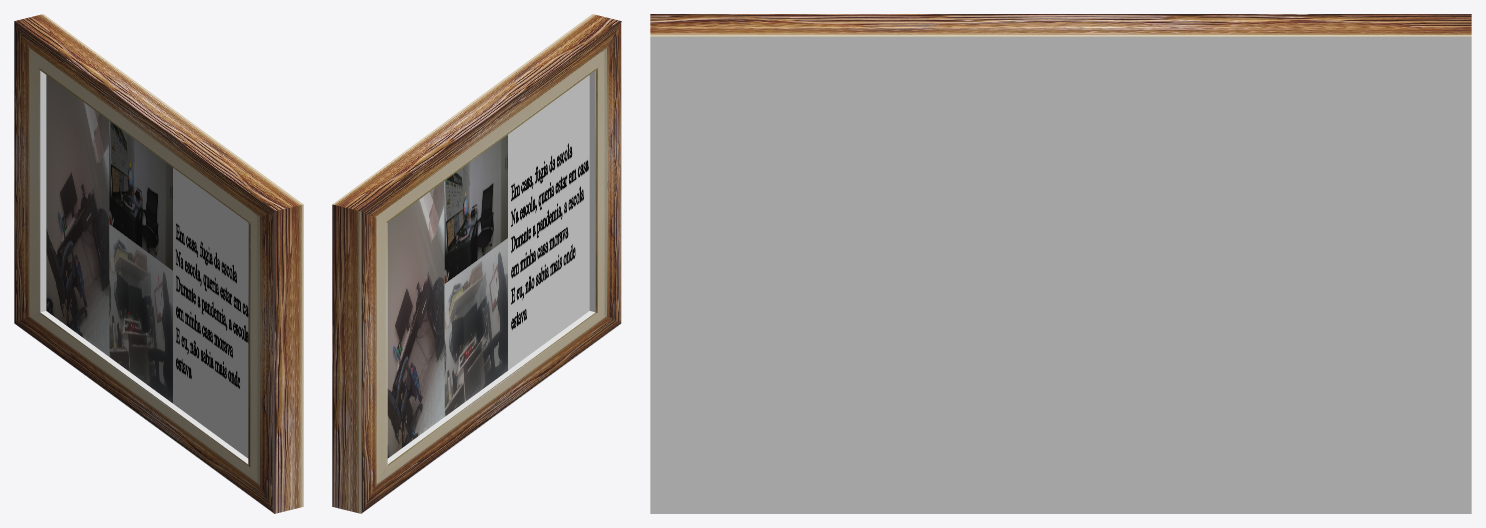
Rendered from quadro.obj.
3 views of the same model, side by side, from view 1: azimuth 30°, elevation 25°; view 2: azimuth 150°, elevation 25°; view 3: azimuth 270°, elevation 25° (orthographic). The views are drawn at different scales.
Visible parts, largest first — view 1: cuboid; view 2: cuboid; view 3: cuboid.
Boxes of the visible parts, bbox=[...] form: cuboid: bbox=[14, 14, 303, 513]; cuboid: bbox=[332, 14, 621, 513]; cuboid: bbox=[650, 14, 1471, 513].
Bounding box in the file's own units: 0.2125 × 2.1 × 3.28.
Materials: 1 (1 with a texture image).
